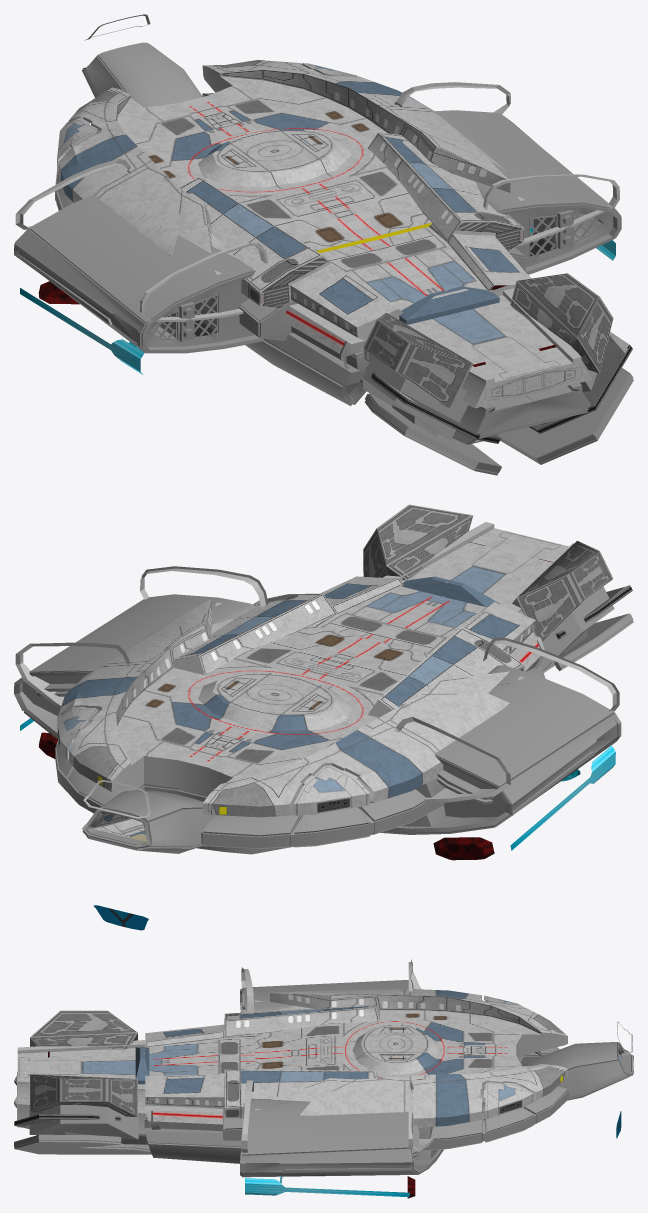
Rendered from Beowolf.FBX.
The picture shows the model from 3 angles, top to bottom: view 1: azimuth 30°, elevation 25°; view 2: azimuth 150°, elevation 25°; view 3: azimuth 270°, elevation 25°; orthographic projection. The views are drawn at different scales.
Parts seen in each view (by area): view 1: 2, Effect, Light 5; view 2: 2, Effect, Light 1, Light 5, 1, Light 2; view 3: 2, Effect, Light 5.
Boxes of the visible parts, box(x1,y1,x2,y2) form: 2: box(15, 14, 632, 443); Effect: box(14, 42, 633, 475); Light 5: box(20, 240, 615, 374); 2: box(15, 504, 632, 818); Effect: box(14, 545, 633, 854); Light 1: box(38, 732, 494, 860); Light 5: box(20, 718, 615, 850); 1: box(94, 813, 146, 847); Light 2: box(93, 905, 148, 930); 2: box(14, 959, 632, 1153); Effect: box(14, 980, 633, 1177); Light 5: box(245, 1178, 409, 1197).
Bounding box in the file's own units: 19.79 × 6.23 × 29.15.
Materials: 3 (2 with a texture image).
